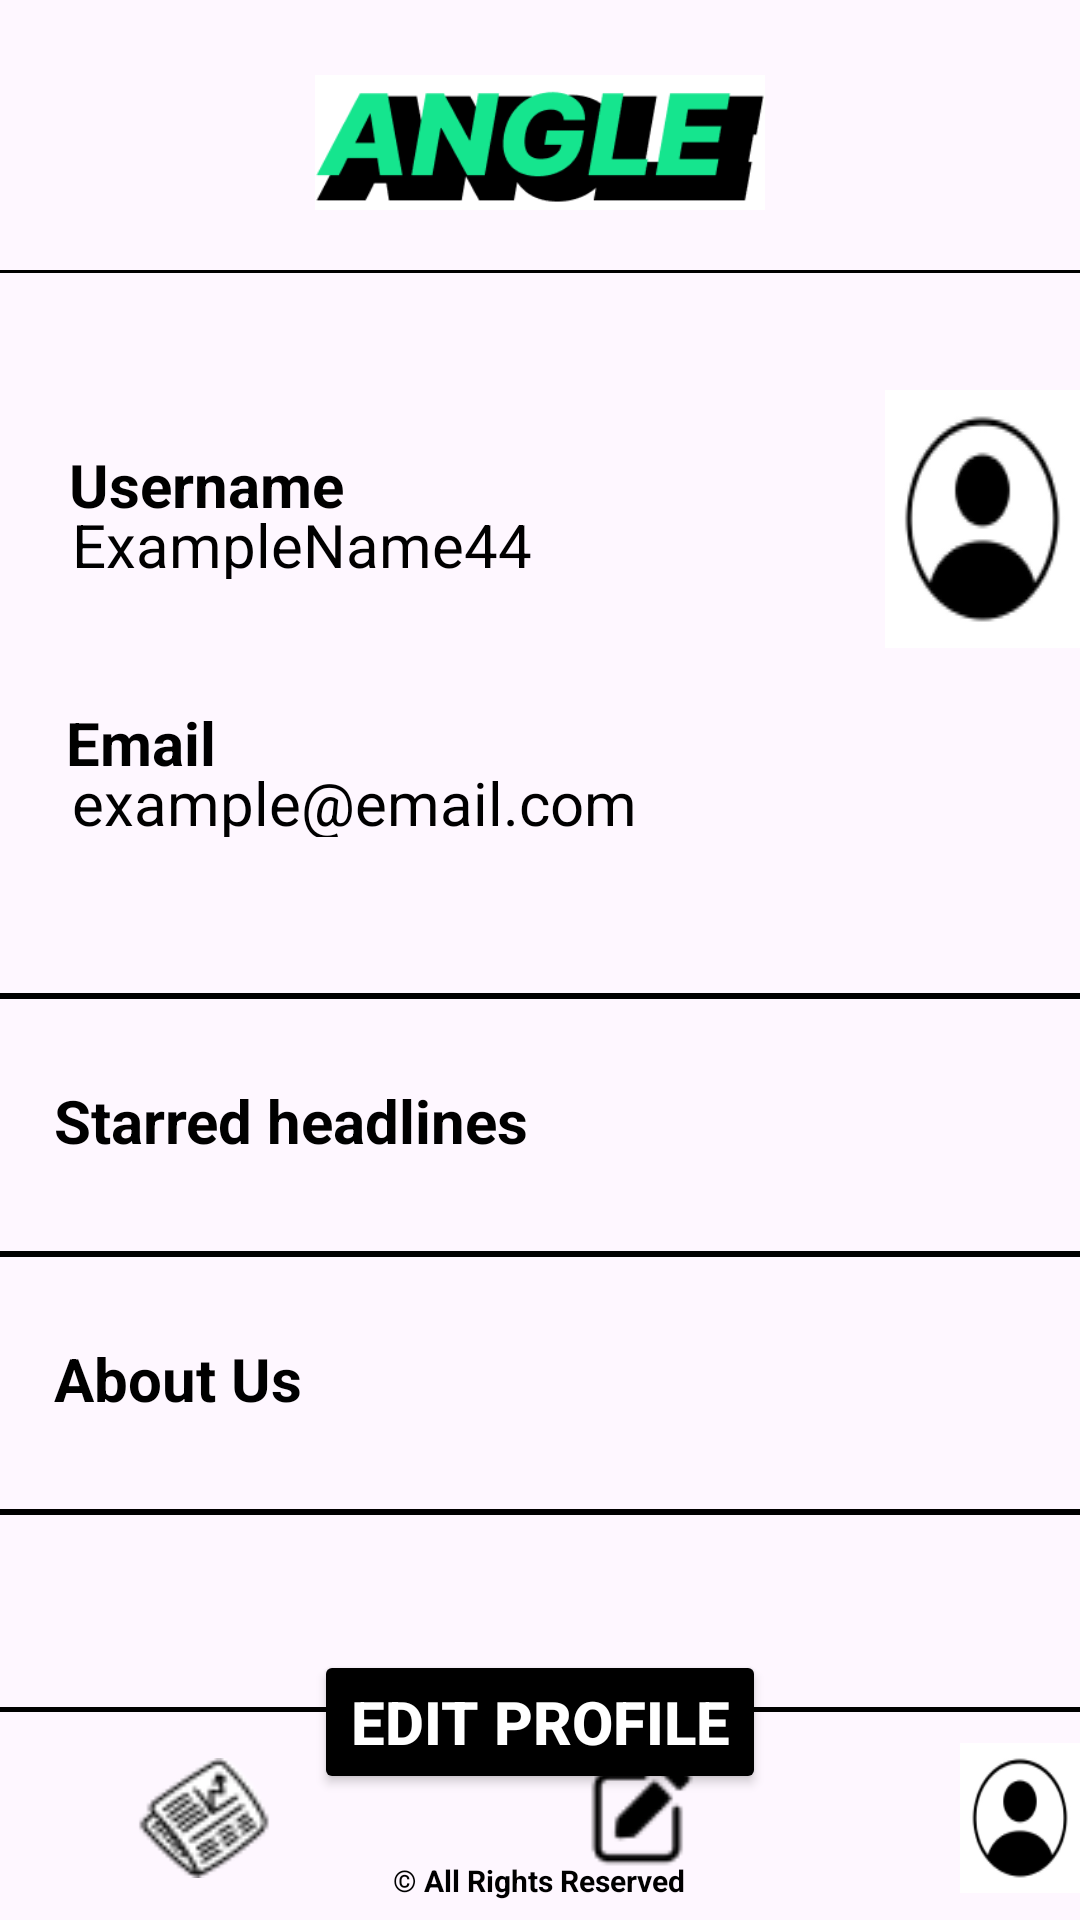

Named icons in this screenshot (1080x1920) and their bounding boxes, (x1=x1, y1=y1, x2=x2, y2=y2):
news: (x1=139, y1=1758, x2=269, y2=1878)
profile: (x1=905, y1=416, x2=1060, y2=622), (x1=972, y1=1758, x2=1068, y2=1878)
